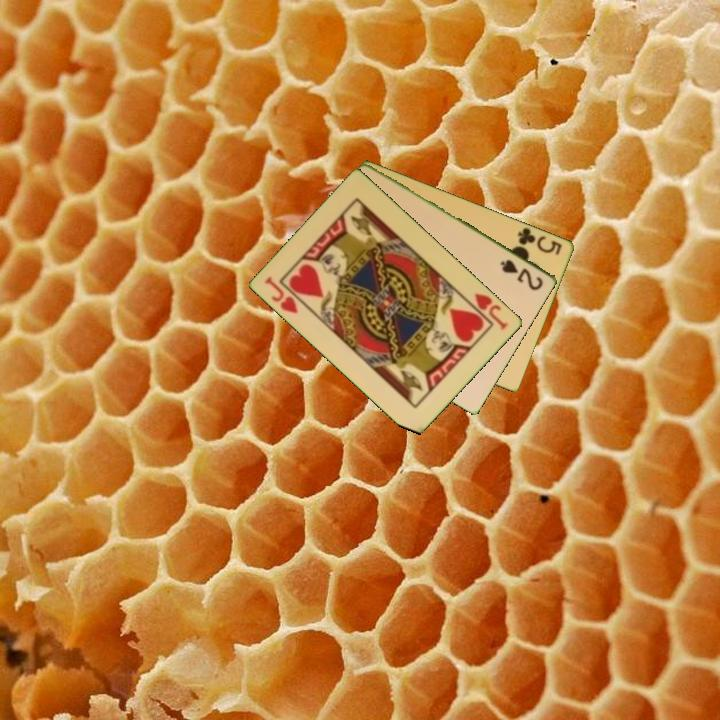2s: (497, 255, 546, 293)
5c: (514, 224, 565, 258)
Jh: (471, 289, 512, 333), (262, 272, 301, 317)
